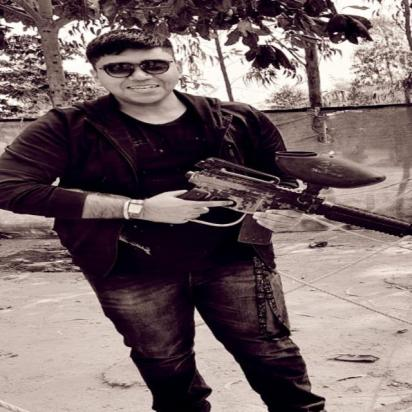Gun: (172, 150, 412, 246)
